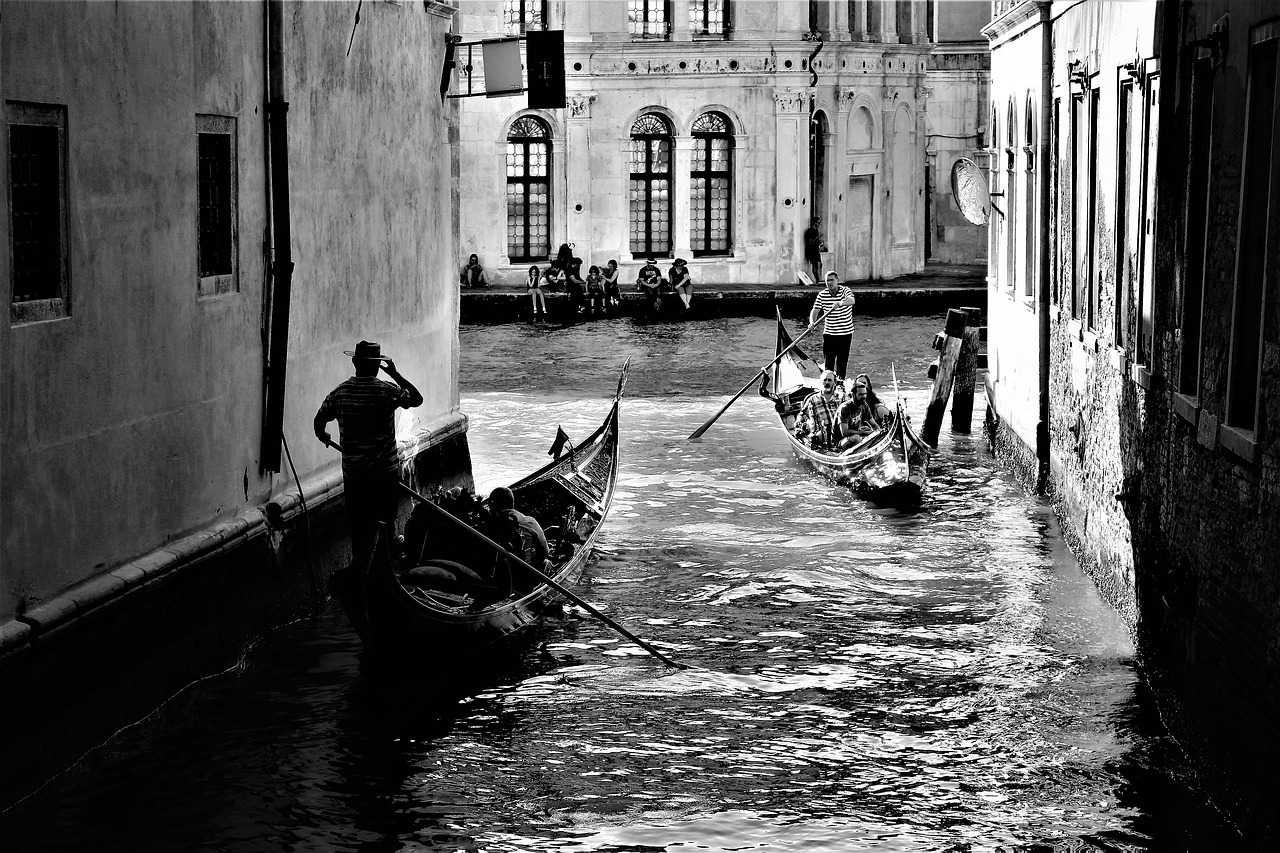kayak: (981, 1, 1277, 828), (339, 361, 628, 668), (760, 308, 933, 513)
